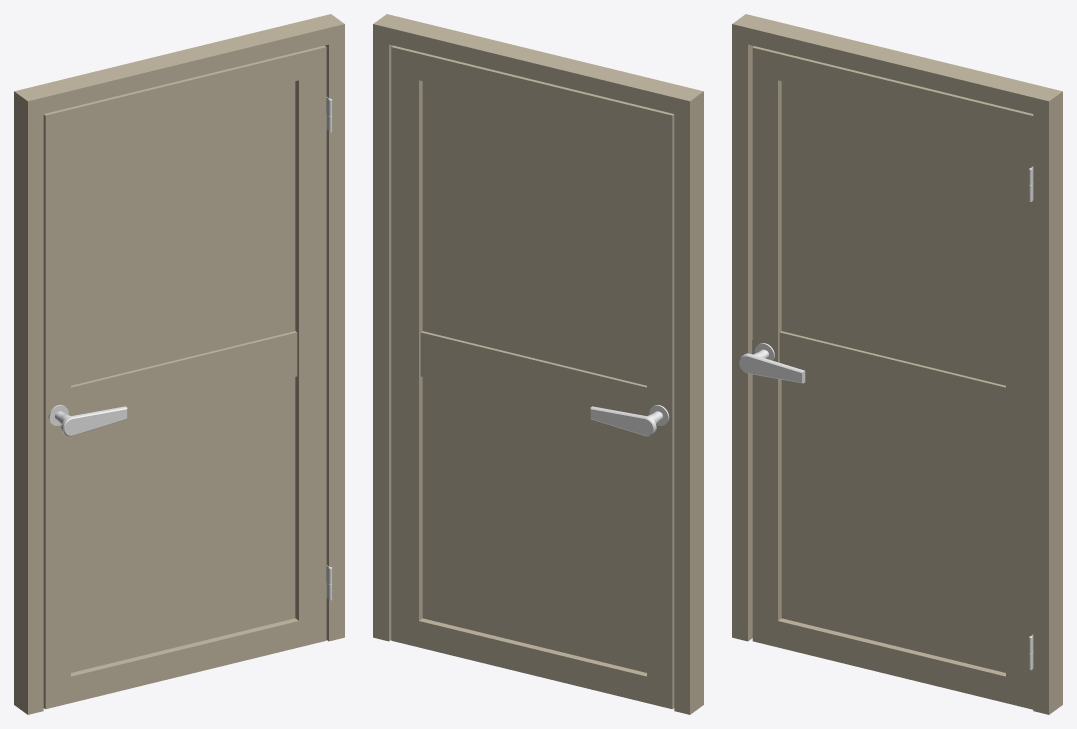
Rendered from 木ドア閉.fbx.
3 renders of one model, left to right at view 1: azimuth 30°, elevation 25°; view 2: azimuth 150°, elevation 25°; view 3: azimuth 330°, elevation 25°, orthographic.
Parts seen in each view (by area): view 1: door, waku; view 2: door, waku; view 3: door, waku.
Part boxes in pixels (<box>): door: <box>43,45,332,709</box>; waku: <box>14,14,344,714</box>; door: <box>391,45,674,709</box>; waku: <box>373,14,703,714</box>; door: <box>739,46,1033,709</box>; waku: <box>732,14,1062,714</box>.
Size of the model in its own units: 100 by 185 by 23.58.
